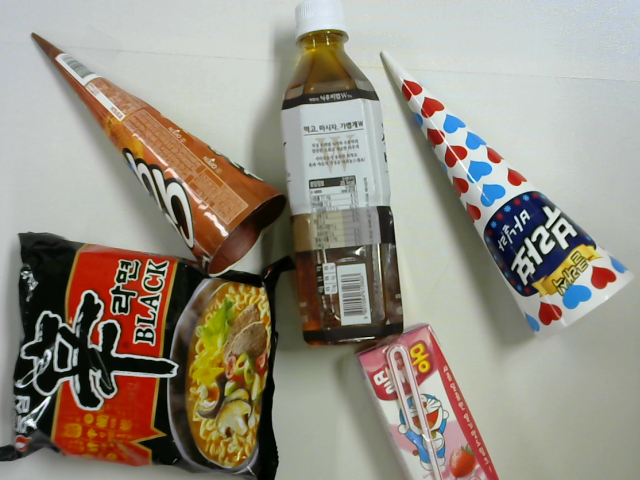Bravo_Cone_(Banila)_CVS: (379, 50, 634, 346)
GooGoo_Cone_CVS: (33, 32, 284, 274)
Post-meal_recipe_W_tea_500ml: (275, 1, 409, 350)
Sinramen_Black: (10, 226, 279, 480)
Strawberry_E_Mong: (358, 324, 502, 480)
